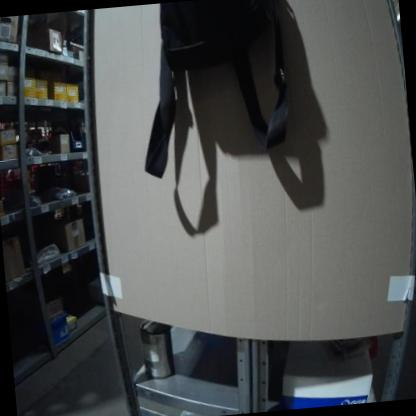small_load_carrier: (52, 313, 71, 344)
